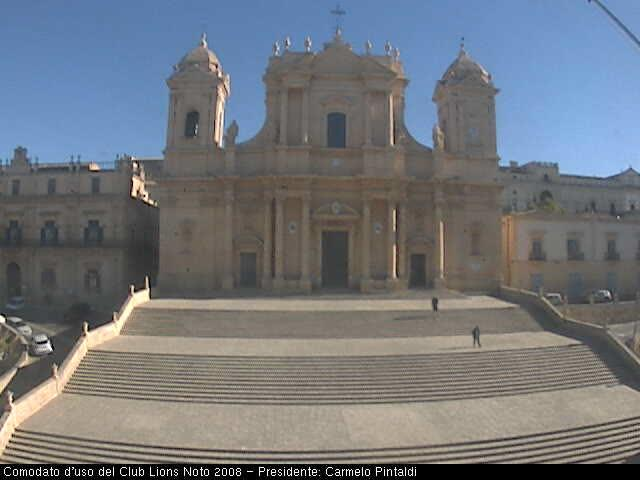person: (428, 291, 441, 325), (470, 323, 483, 353)
